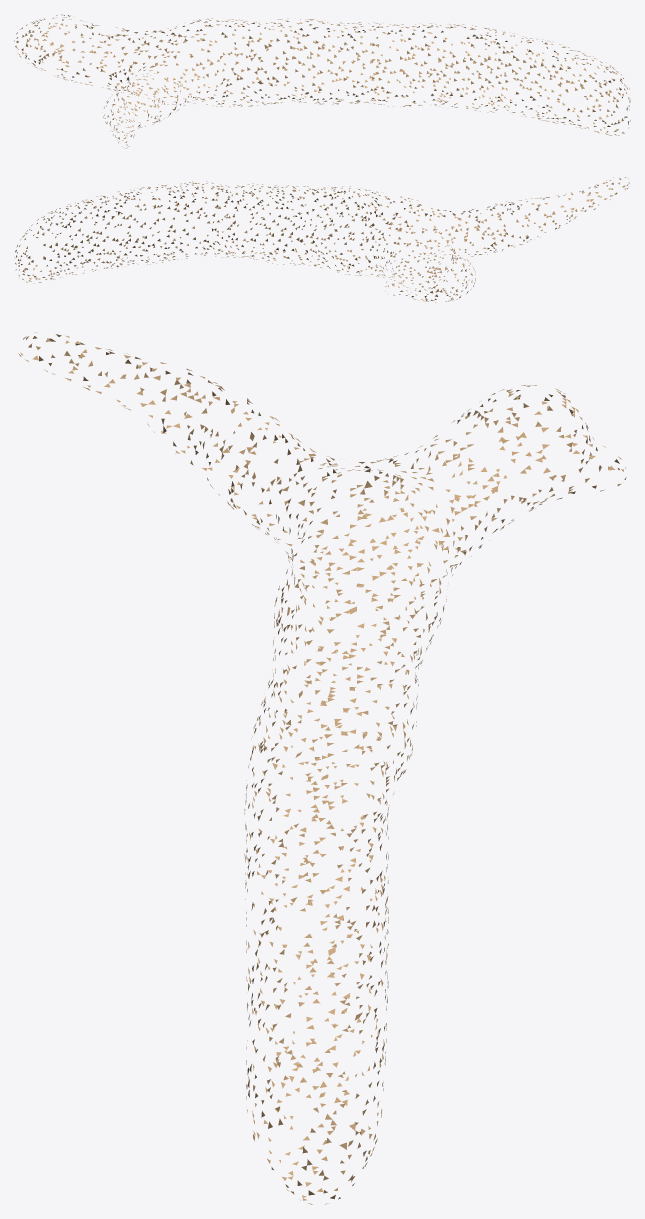
The model's file is morph_006.glb.
The picture shows the model from 3 angles, top to bottom: view 1: azimuth 30°, elevation 25°; view 2: azimuth 150°, elevation 25°; view 3: azimuth 270°, elevation 25°; orthographic projection. The views are drawn at different scales.
Bounding box in the file's own units: 126 × 40.56 × 61.63.
